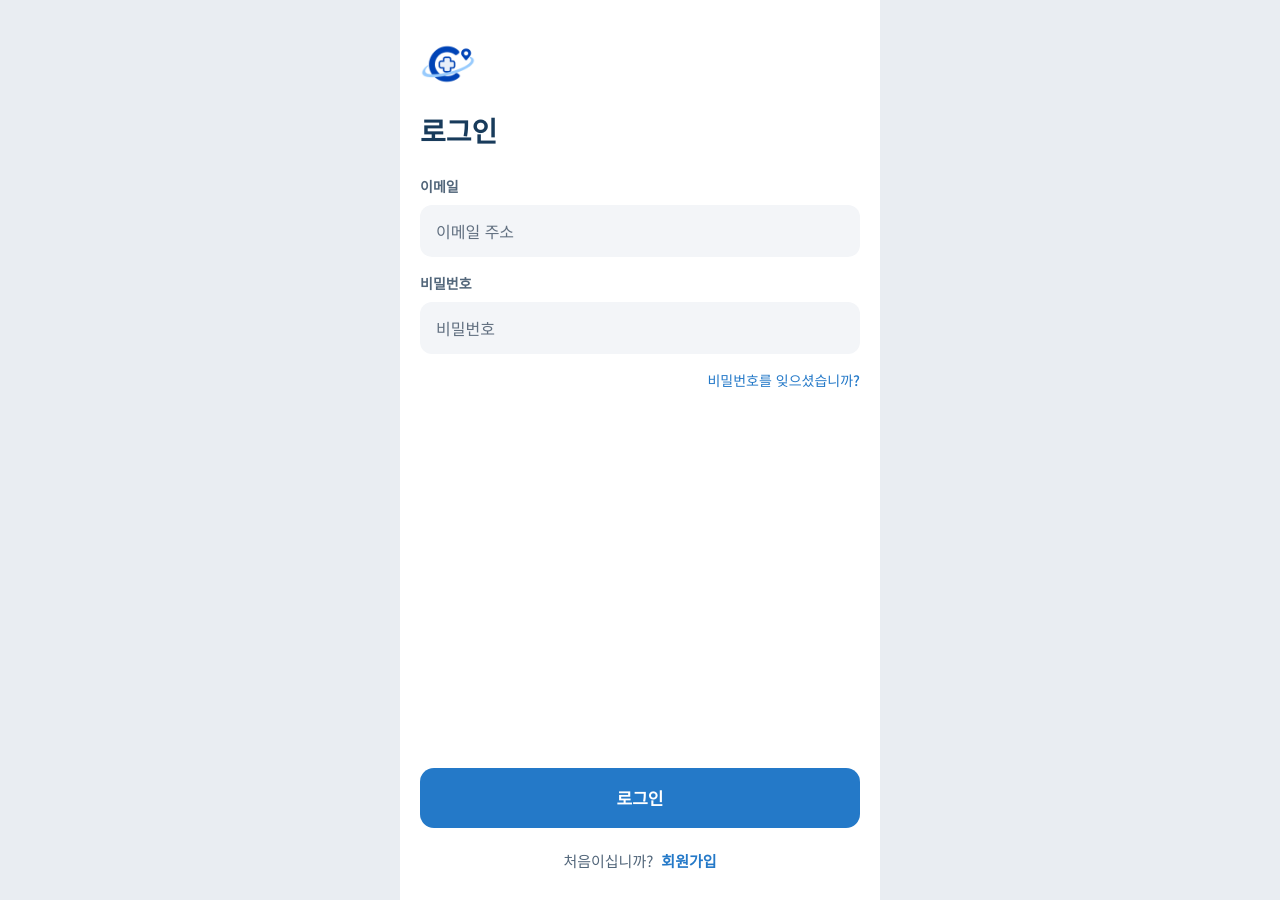
Test: 로그인 딥링크 › 로그인하면 ?next=의 화면으로 간다
The width and height of the screenshot is (1280, 900).
Step 1. Type "a1@example.com" into the field labelled "이메일" → (640, 231), box [420,205,860,257]
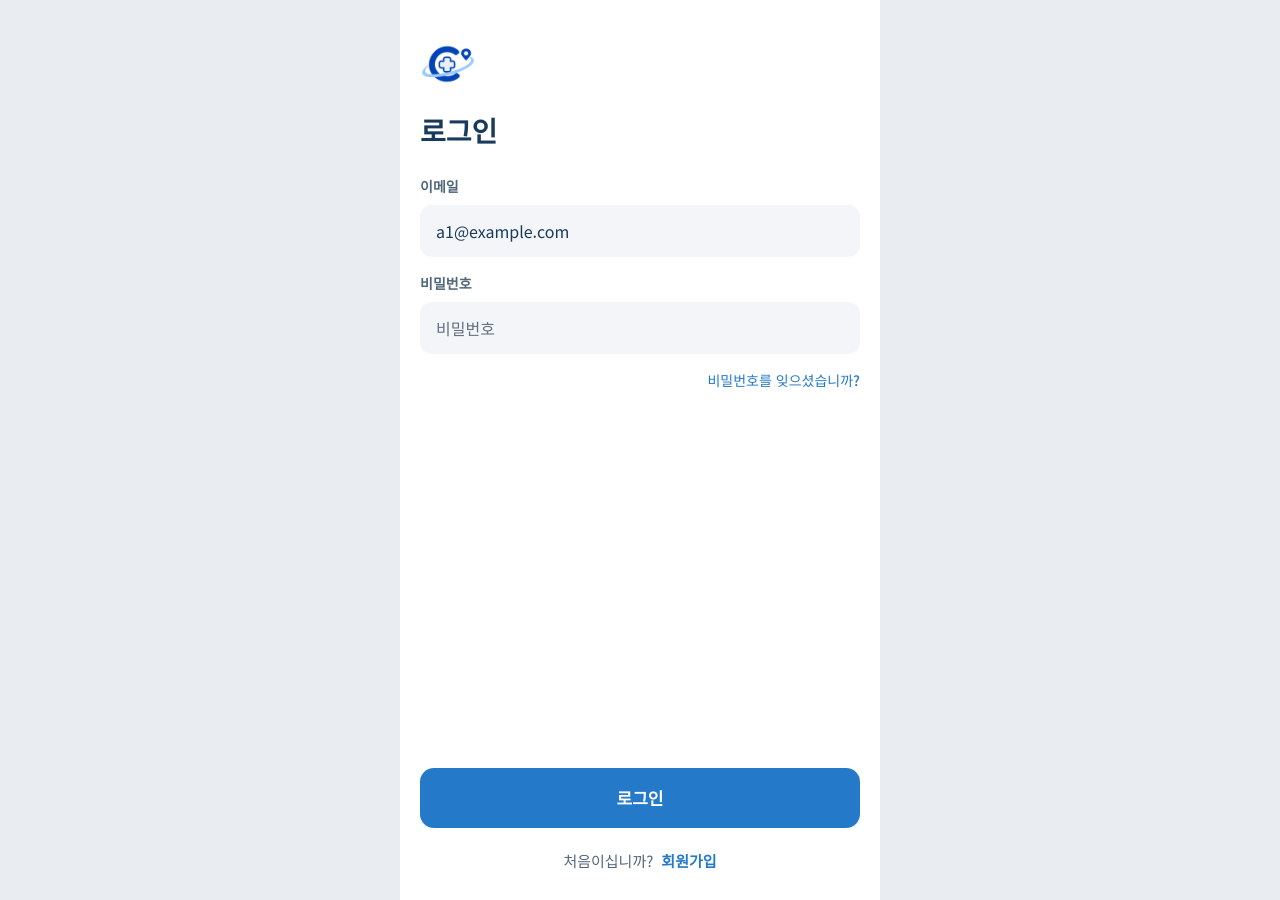
Step 2. Type "pw" into the password field labelled "비밀번호" → (640, 328), box [420,302,860,354]
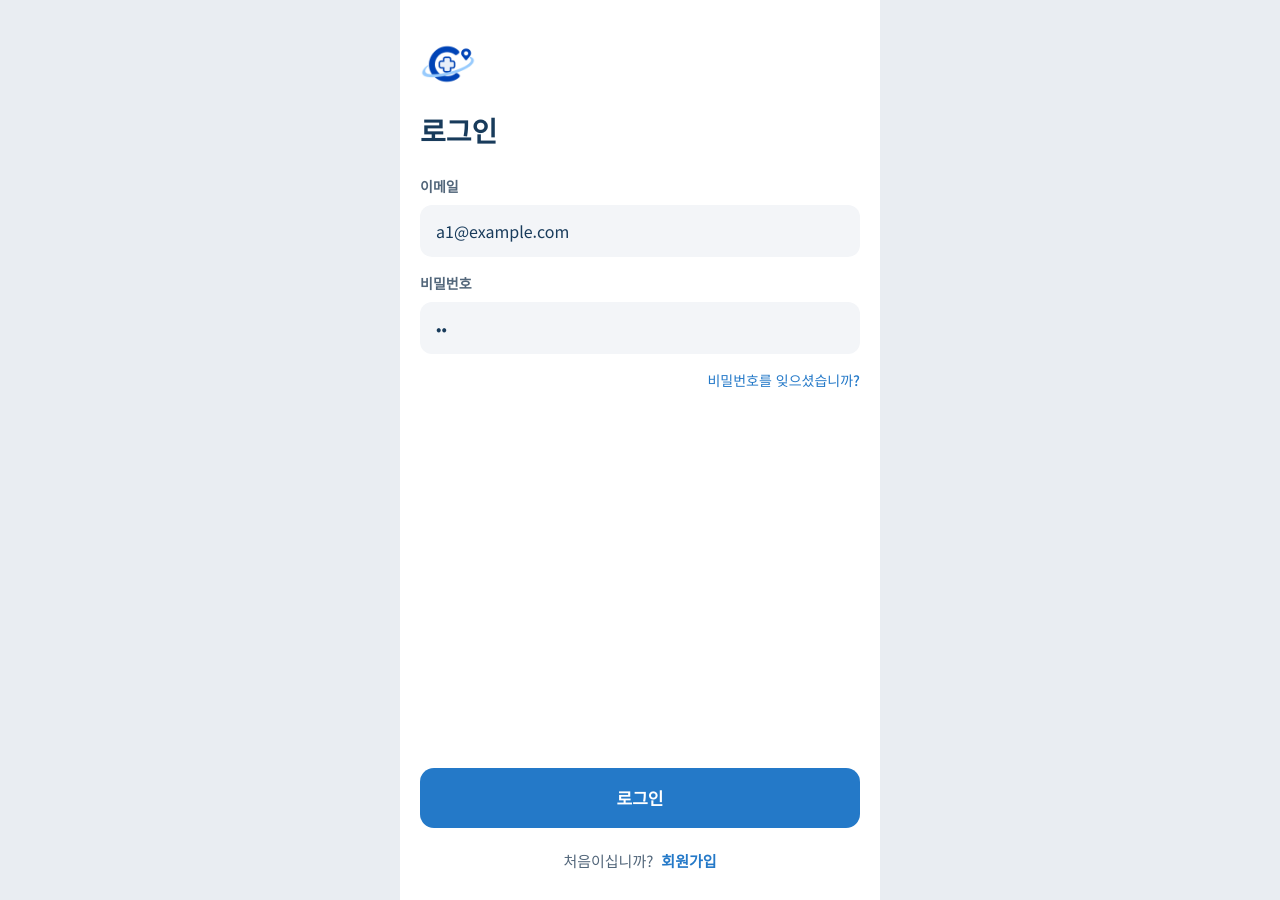
Step 3. Click the button "로그인" → (640, 798), box [420,768,860,828]
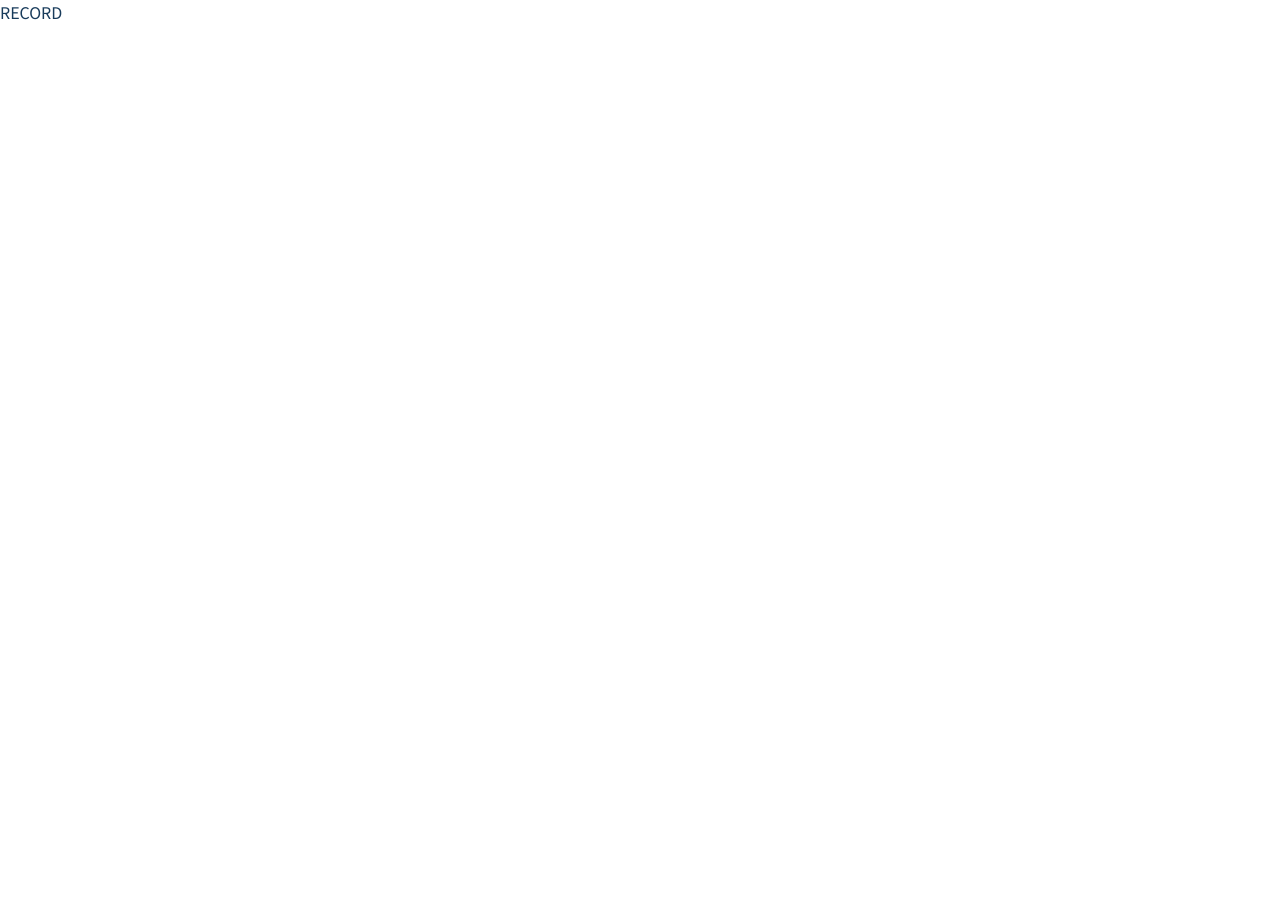
Check: the text "RECORD" is shown, box [0,0,62,24]
